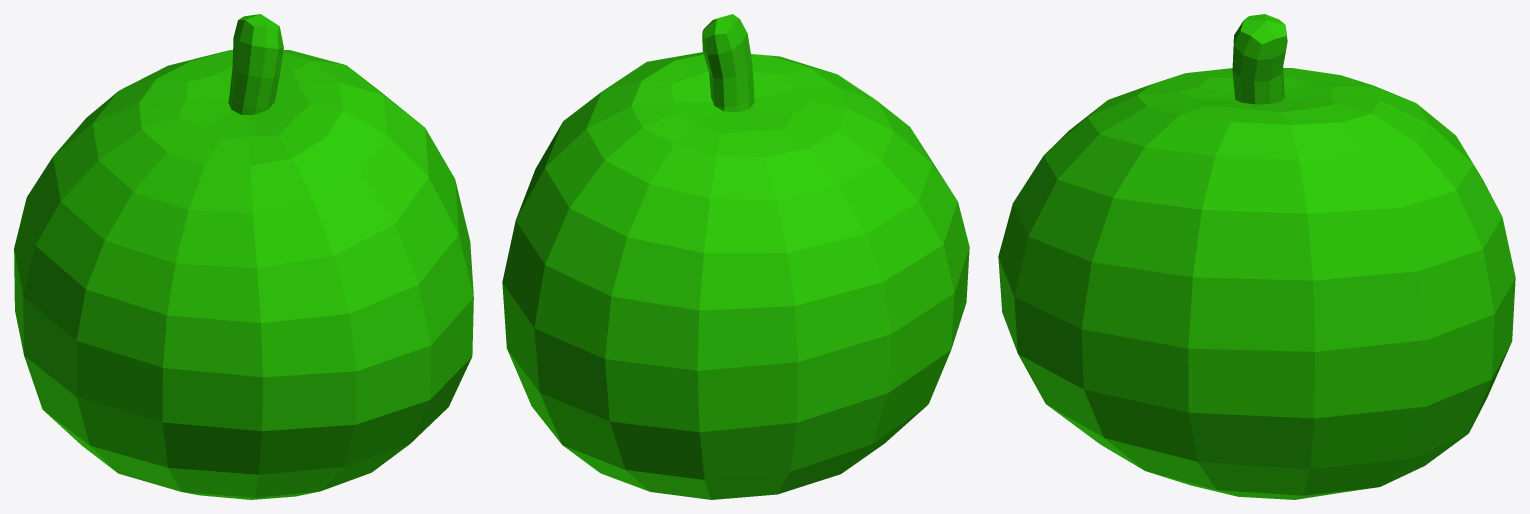
The model's file is green_apple.fbx.
3 renders of one model, left to right at view 1: azimuth 30°, elevation 25°; view 2: azimuth 150°, elevation 25°; view 3: azimuth 270°, elevation 25°, orthographic. The views are drawn at different scales.
Visible parts, largest first — view 1: green_apple; view 2: green_apple; view 3: green_apple.
Part boxes in pixels (x1,y1,x2,y2): green_apple: (14, 14, 473, 499); green_apple: (502, 14, 969, 499); green_apple: (998, 14, 1515, 499).
Bounding box in the file's own units: 10.98 × 11.93 × 12.47.
